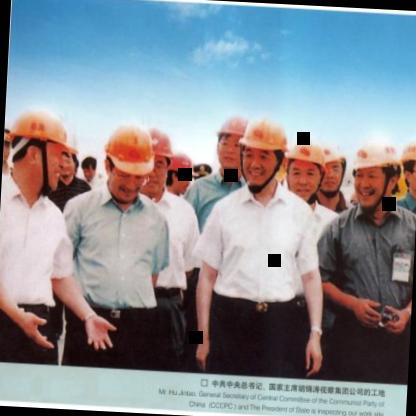helmet: (5, 98, 76, 200), (96, 115, 155, 200), (347, 136, 403, 216), (236, 112, 288, 188), (283, 133, 329, 203), (209, 107, 252, 181), (316, 138, 349, 200), (146, 134, 172, 192), (166, 153, 196, 200), (401, 134, 416, 207)
